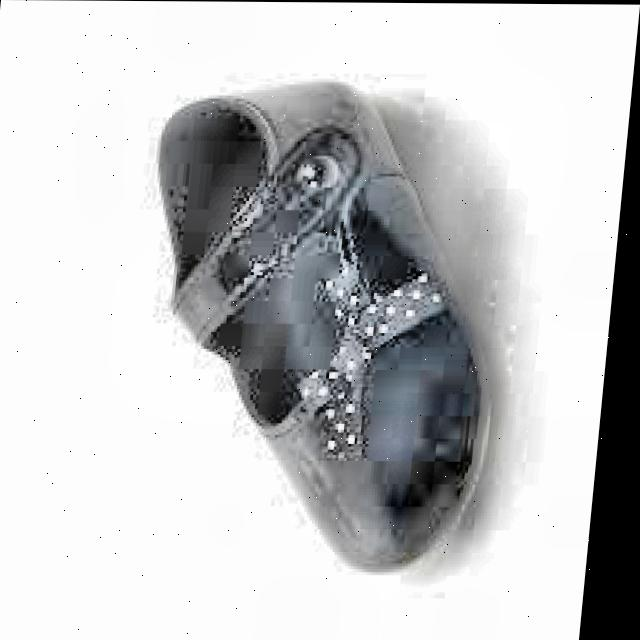shoes: (81, 51, 554, 606)
